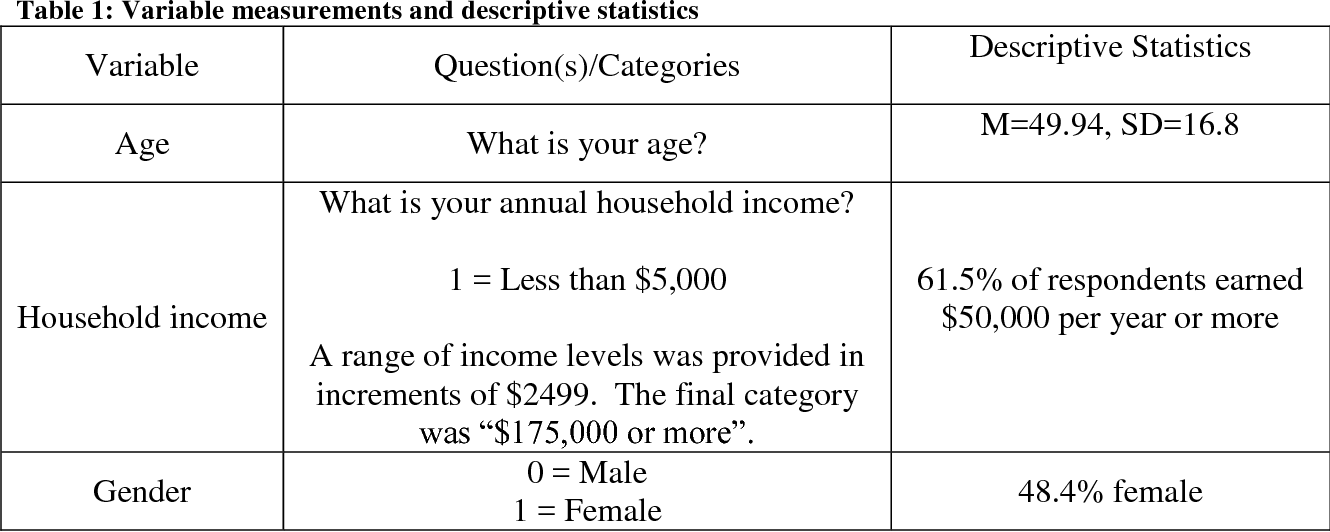fracking table: (1, 1, 1330, 530)
